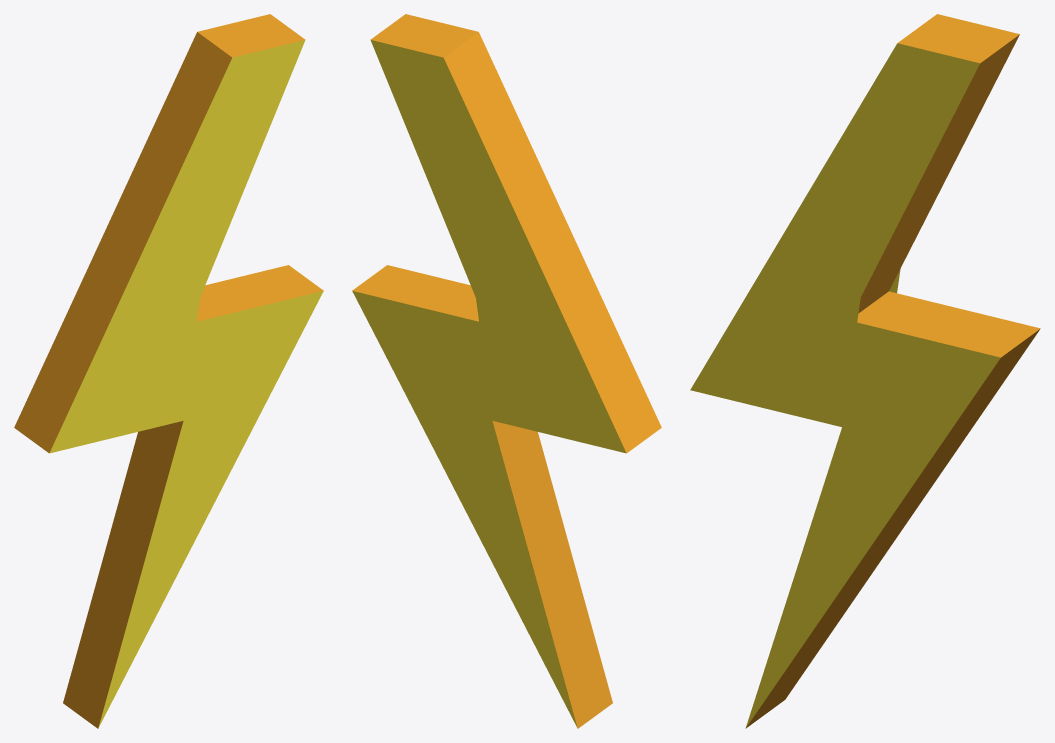
Rendered from blixt.glb.
3 renders of one model, left to right at view 1: azimuth 30°, elevation 25°; view 2: azimuth 150°, elevation 25°; view 3: azimuth 330°, elevation 25°, orthographic. The views are drawn at different scales.
Parts seen in each view (by area): view 1: blixt; view 2: blixt; view 3: blixt.
Boxes of the visible parts, <box> form: blixt: <box>14,14,323,728</box>; blixt: <box>352,14,661,728</box>; blixt: <box>690,14,1040,728</box>.
Size of the model in its own units: 0.45 by 1 by 0.1.
